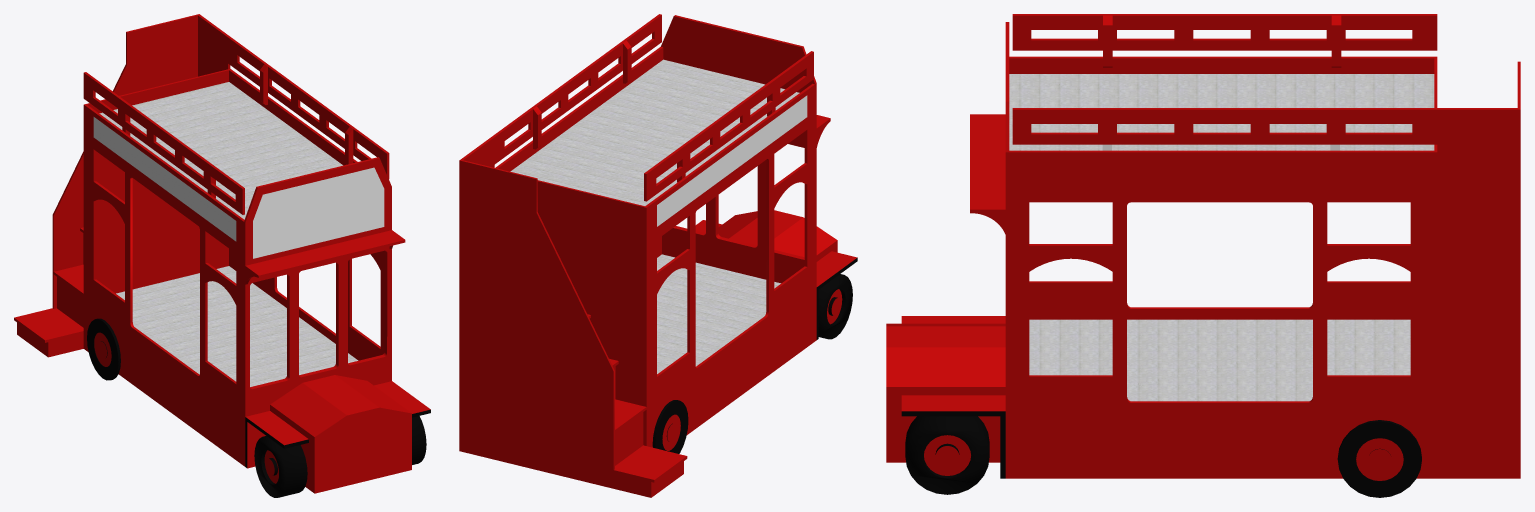
The picture shows the model from 3 angles, left to right: view 1: azimuth 30°, elevation 25°; view 2: azimuth 150°, elevation 25°; view 3: azimuth 270°, elevation 25°; orthographic projection. The views are drawn at different scales.
Parts seen in each view (by area): view 1: mesh6_mesh6-geometry, mesh6_mesh6-geometry_2, mesh6_mesh6-geometry_1, mesh6_mesh6-geometry_4, mesh1_mesh1-geometry_4, mesh9_mesh9-geometry_1, mesh1_mesh1-geometry_5; view 2: mesh6_mesh6-geometry, mesh6_mesh6-geometry_2, mesh6_mesh6-geometry_1, mesh6_mesh6-geometry_4, mesh1_mesh1-geometry_4, mesh1_mesh1-geometry_5; view 3: mesh6_mesh6-geometry, mesh6_mesh6-geometry_2, mesh9_mesh9-geometry_1, mesh1_mesh1-geometry_1, mesh1_mesh1-geometry_2, mesh9_mesh9-geometry_2, mesh6_mesh6-geometry_4.
Part boxes in pixels (bbox=[...]): mesh6_mesh6-geometry: bbox=[14, 14, 430, 493]; mesh6_mesh6-geometry_2: bbox=[99, 82, 358, 386]; mesh6_mesh6-geometry_1: bbox=[93, 117, 384, 258]; mesh6_mesh6-geometry_4: bbox=[245, 409, 430, 497]; mesh1_mesh1-geometry_4: bbox=[87, 318, 120, 380]; mesh9_mesh9-geometry_1: bbox=[412, 416, 426, 464]; mesh1_mesh1-geometry_5: bbox=[94, 332, 111, 366]; mesh6_mesh6-geometry: bbox=[459, 14, 857, 497]; mesh6_mesh6-geometry_2: bbox=[510, 59, 799, 373]; mesh6_mesh6-geometry_1: bbox=[657, 95, 807, 226]; mesh6_mesh6-geometry_4: bbox=[816, 258, 857, 339]; mesh1_mesh1-geometry_4: bbox=[652, 400, 688, 453]; mesh1_mesh1-geometry_5: bbox=[662, 414, 680, 450]; mesh6_mesh6-geometry: bbox=[886, 14, 1520, 478]; mesh6_mesh6-geometry_2: bbox=[1009, 74, 1434, 401]; mesh9_mesh9-geometry_1: bbox=[905, 416, 989, 494]; mesh1_mesh1-geometry_1: bbox=[1337, 420, 1421, 497]; mesh1_mesh1-geometry_2: bbox=[1356, 438, 1403, 480]; mesh9_mesh9-geometry_2: bbox=[924, 435, 970, 475]; mesh6_mesh6-geometry_4: bbox=[901, 411, 1005, 478].
Bounding box in the file's own units: 0.3543 × 0.5226 × 0.7755.
6 materials, 1 textured.
